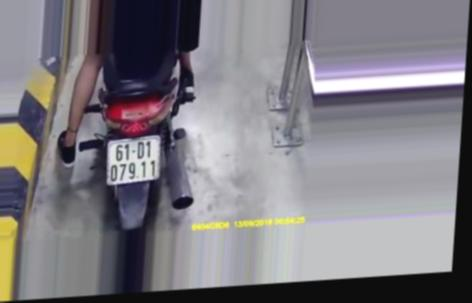License_Plate: (100, 134, 164, 186)
